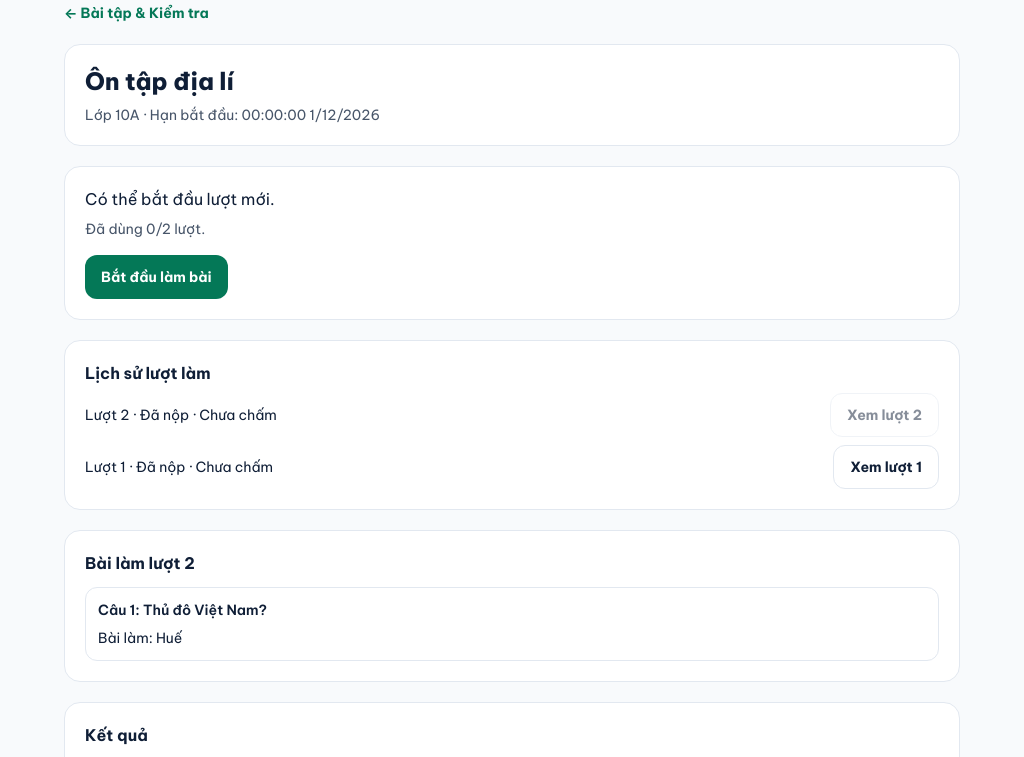
Test: Student Assessment API integration › lets a student inspect an older own attempt without opening another student's data
Click the button "Xem lượt 1" at (886, 467), box [833,445,939,489]
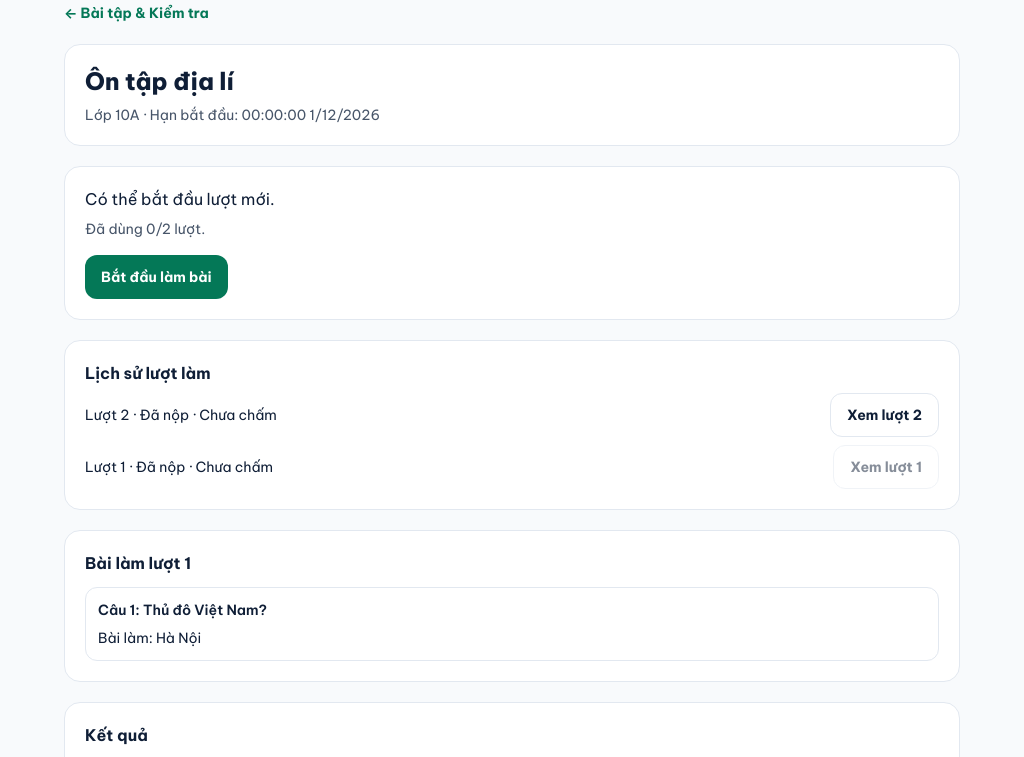
expect the text "Bài làm lượt 1" is shown: met, box [85,553,191,573]
expect the text "Bài làm: Hà Nội" is shown: met, box [98,629,201,647]
